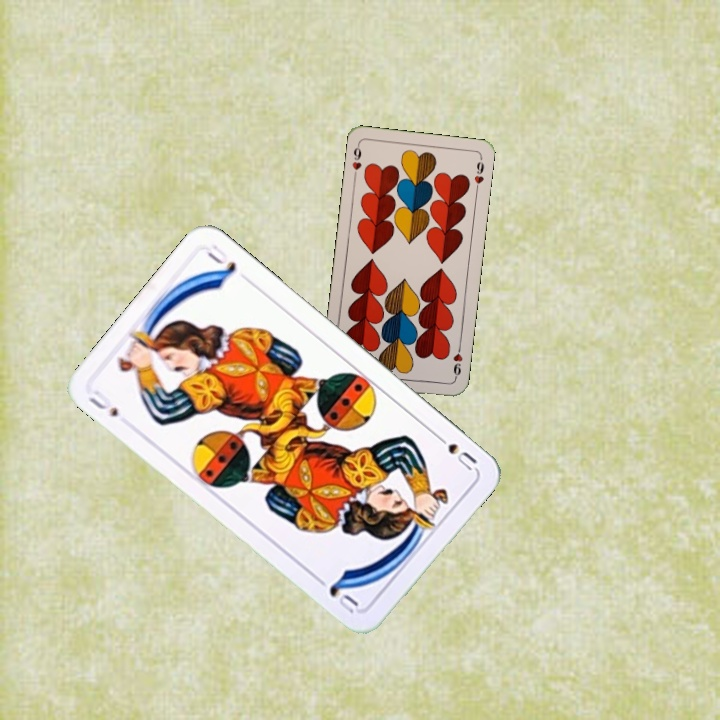H9: (348, 140, 364, 181), (449, 341, 465, 382)
SU: (429, 428, 480, 474), (84, 385, 121, 420)
